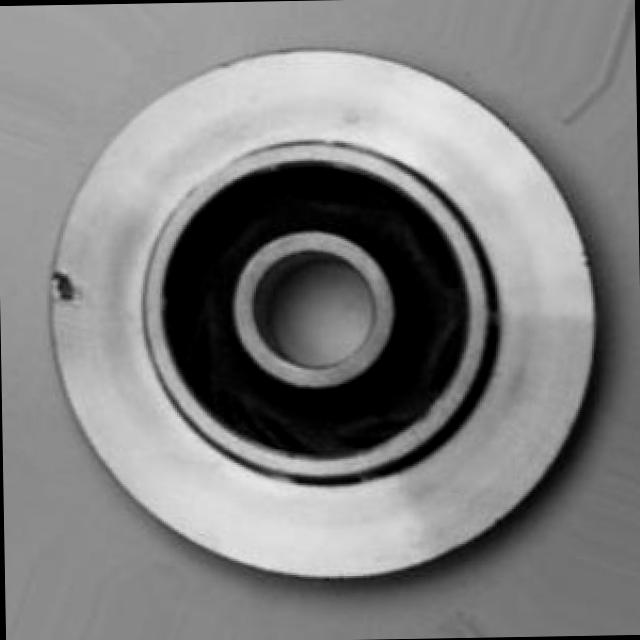Defect: (47, 260, 90, 304)
